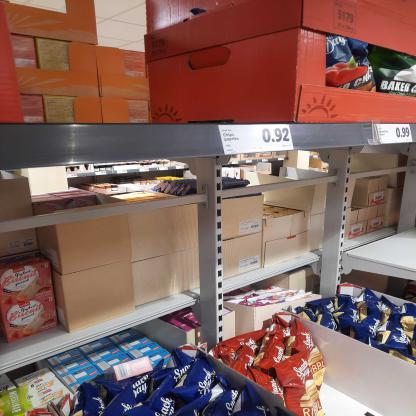prtg: (219, 125, 295, 156), (377, 125, 414, 145)
